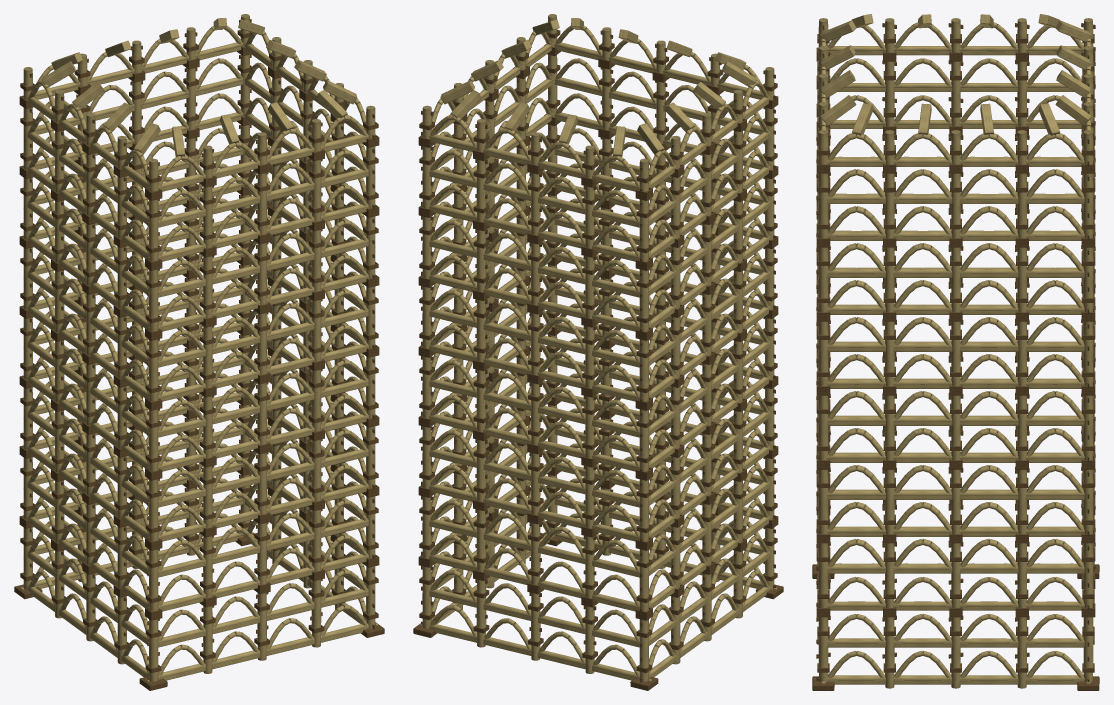
The picture shows the model from 3 angles, left to right: view 1: azimuth 30°, elevation 25°; view 2: azimuth 150°, elevation 25°; view 3: azimuth 270°, elevation 25°; orthographic projection. The views are drawn at different scales.
Visible parts, largest first — view 1: no part large enough to name; view 2: no part large enough to name; view 3: Tier 0 side 1 post 2, Tier 0 side 1 post 1, Tier 0 side 1 post 3, Tier 6 side 1 post 0, Tier 2 side 1 post 0, Tier 5 side 1 post 0, Tier 3 side 1 post 0, Tier 4 side 1 post 0, Tier 0 side 1 post 0, Tier 1 side 1 post 0, Tier 6 side 2 post 0, Tier 2 side 2 post 0 (+30 smaller).
Part boxes in pixels (x1,y1,x2,y2): Tier 0 side 1 post 2: (951, 617, 960, 688); Tier 0 side 1 post 1: (885, 617, 894, 688); Tier 0 side 1 post 3: (1017, 617, 1026, 688); Tier 6 side 1 post 0: (818, 173, 828, 238); Tier 2 side 1 post 0: (818, 469, 828, 534); Tier 5 side 1 post 0: (818, 247, 828, 312); Tier 3 side 1 post 0: (818, 395, 828, 460); Tier 4 side 1 post 0: (818, 321, 828, 386); Tier 0 side 1 post 0: (818, 617, 828, 682); Tier 1 side 1 post 0: (818, 543, 828, 607); Tier 6 side 2 post 0: (1083, 173, 1093, 238); Tier 2 side 2 post 0: (1083, 469, 1093, 534).
Bounding box in the file's own units: 1.95 × 4.28 × 1.95.
2 materials, 2 textured.
